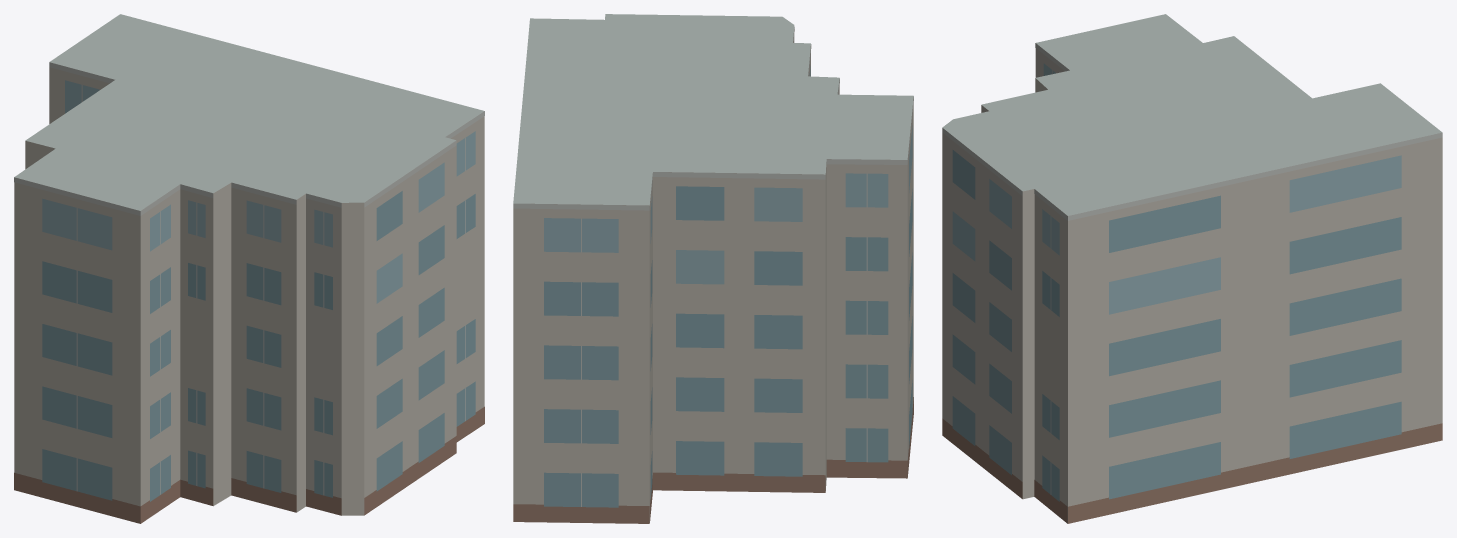
File: survey-upis-32755526.glb
3 views of the same model, side by side, from view 1: azimuth 30°, elevation 25°; view 2: azimuth 150°, elevation 25°; view 3: azimuth 270°, elevation 25° (orthographic). The views are drawn at different scales.
Parts seen in each view (by area): view 1: survey-upis-32755526.tmp; view 2: survey-upis-32755526.tmp; view 3: survey-upis-32755526.tmp.
Part boxes in pixels (bbox=[...]): survey-upis-32755526.tmp: bbox=[14, 14, 484, 523]; survey-upis-32755526.tmp: bbox=[513, 14, 913, 523]; survey-upis-32755526.tmp: bbox=[942, 14, 1442, 523].
Bounding box in the file's own units: 21.47 × 15.25 × 22.47.
